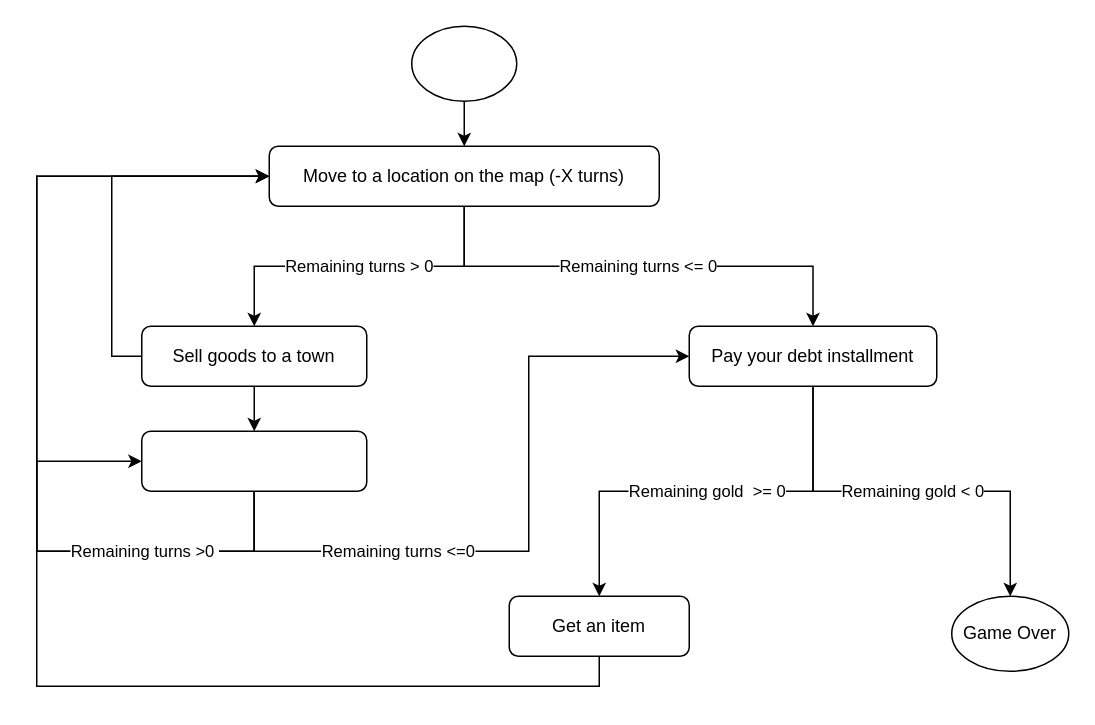
Some shapes in this 1095 by 725 pixel diagram are drawn without their labels. The box of each missing label's shape, as (x1, y1, x2, y2) in pixels:
Game Start: (410, 25, 517, 101)
Spin the machine (-1 turn): (140, 430, 367, 491)
